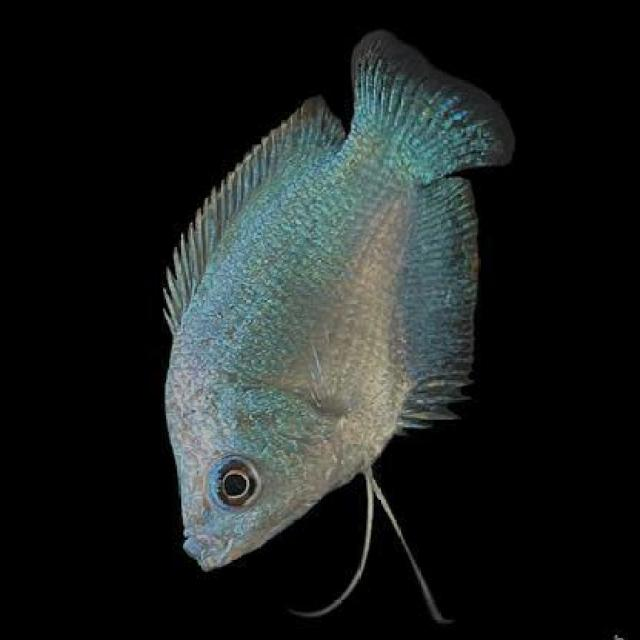Gourami: (144, 24, 510, 582)
